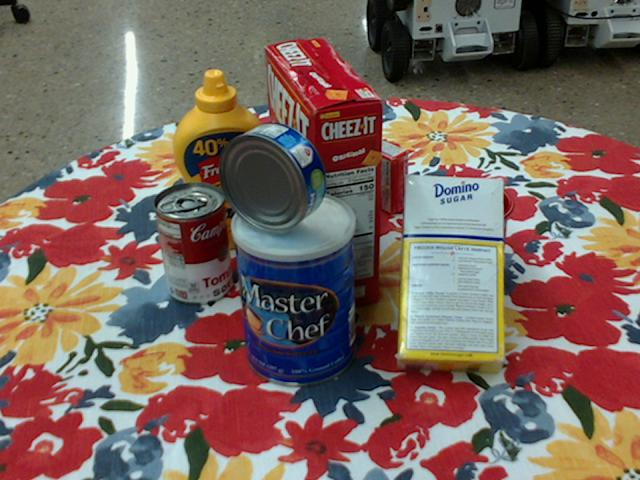cracker_box: (265, 38, 383, 312)
gelatin_box: (338, 127, 409, 214)
large_marker: (279, 77, 311, 129)
master_chef_can: (231, 191, 356, 389)
mug: (403, 178, 514, 288)
mustard_bottle: (172, 70, 272, 249)
potted_meat_can: (248, 121, 341, 214)
sugar_box: (397, 177, 506, 376)
tomato_soup_can: (153, 181, 232, 304)
tuna_fish_can: (218, 122, 327, 234)
